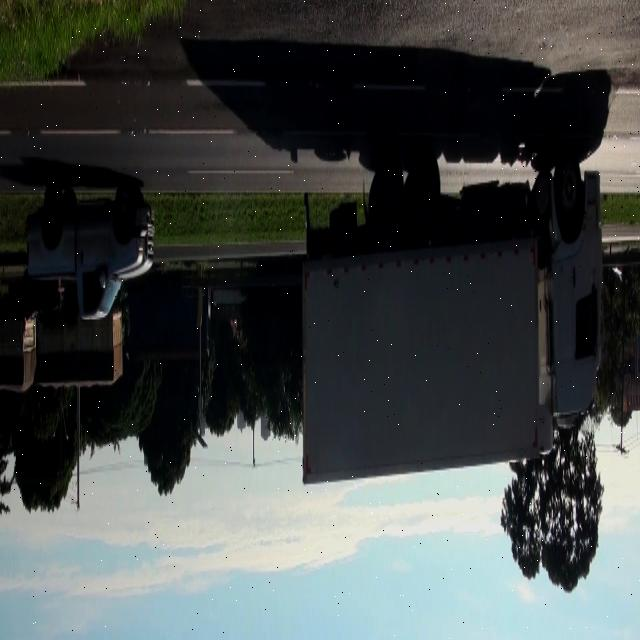-axle: (410, 144, 440, 233), (374, 162, 403, 236), (556, 154, 584, 222)
